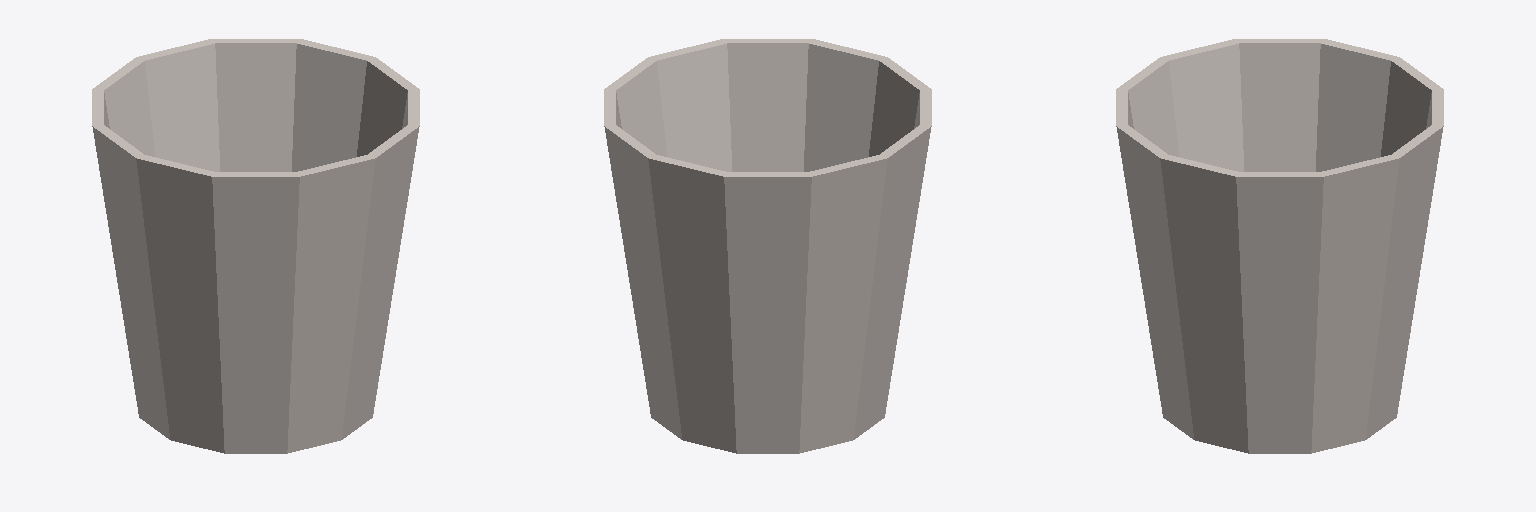
Rendered from Prop_Misc_Trashcan.obj.
3 renders of one model, left to right at view 1: azimuth 30°, elevation 25°; view 2: azimuth 150°, elevation 25°; view 3: azimuth 270°, elevation 25°, orthographic.
Parts seen in each view (by area): view 1: object1; view 2: object1; view 3: object1.
Boxes of the visible parts, box(x1,y1,x2,y2) form: object1: box(92, 39, 419, 453); object1: box(604, 39, 931, 453); object1: box(1116, 39, 1443, 453).
Bounding box in the file's own units: 0.35 × 0.35 × 0.35.